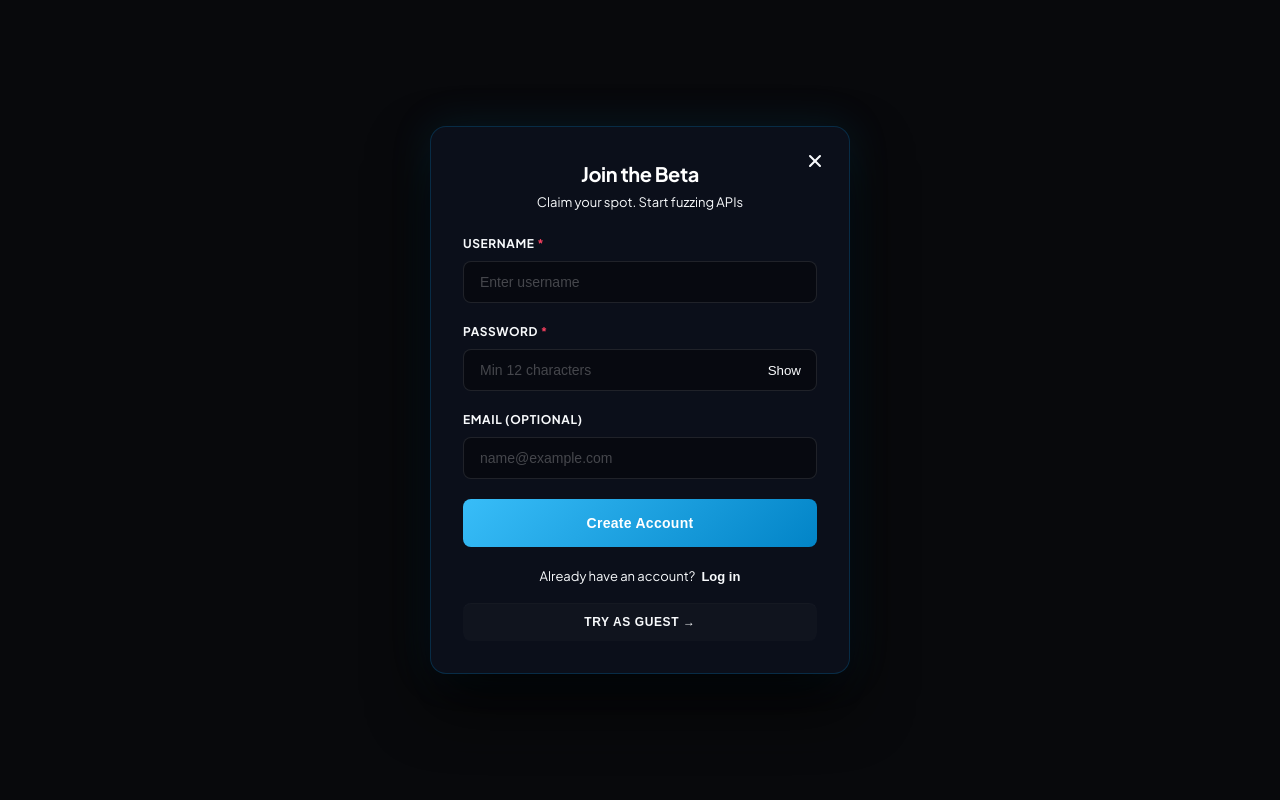
Test: AuthModal Component › shows validation error when password is too short on registration
This screenshot has width=1280, height=800.
In the field with placeholder "Enter username": (640, 282) [463,261,817,303], type "validuser"
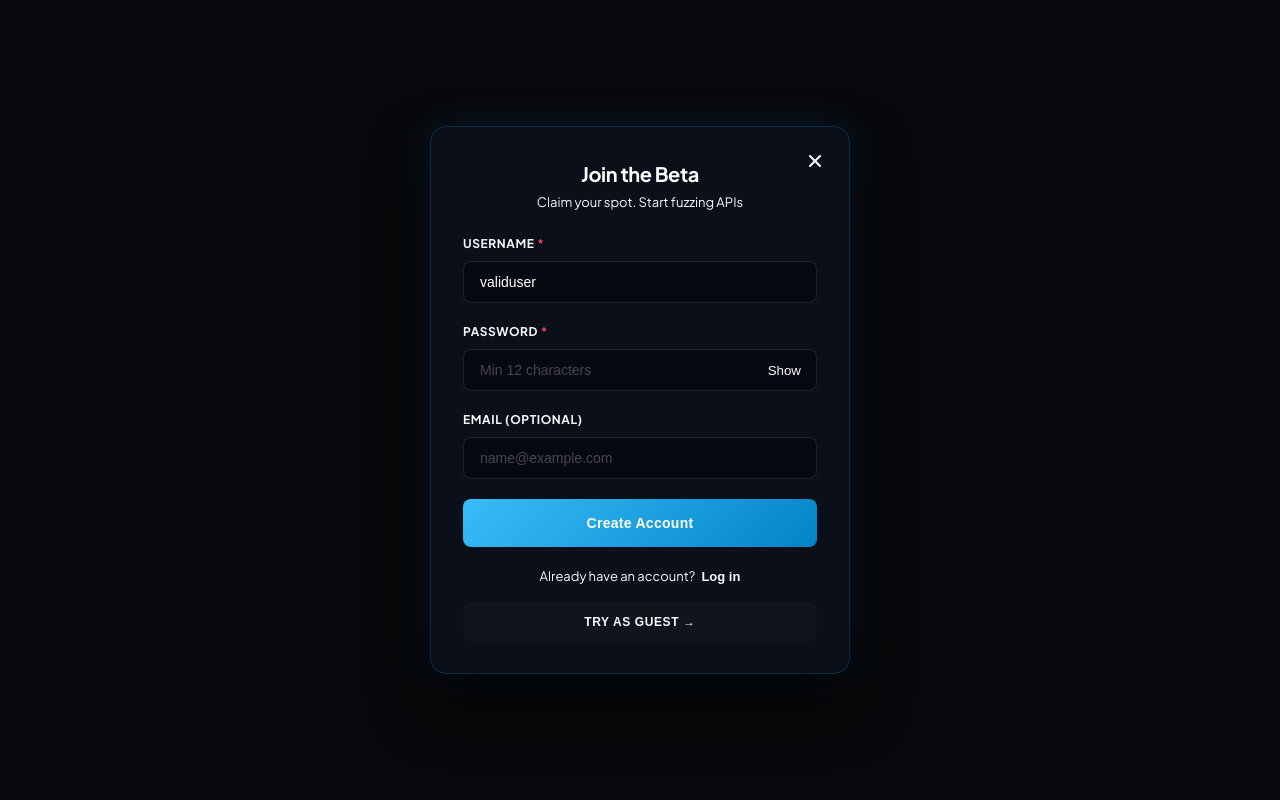
In the password field with placeholder "Min 12 characters": (640, 370) [463,349,817,391], type "short"
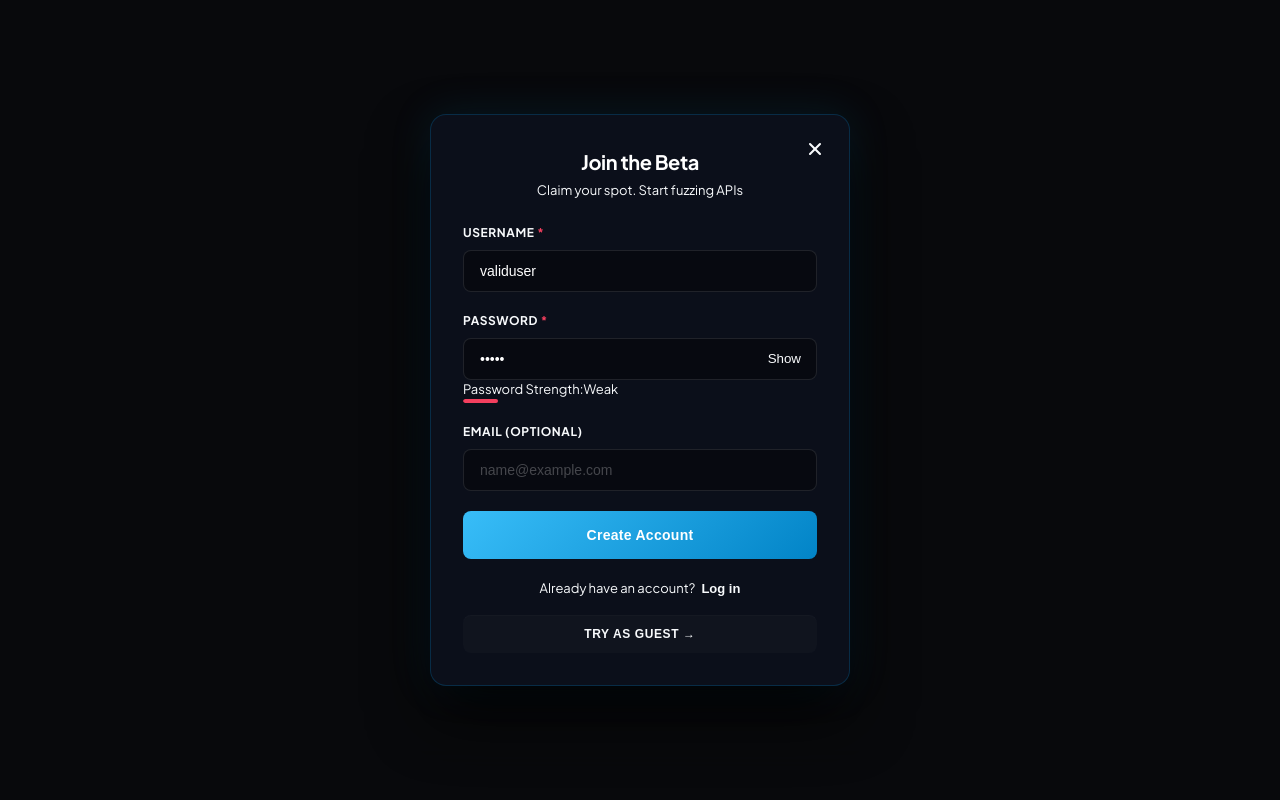
Submit the form named "create account", box [463,224,817,653]
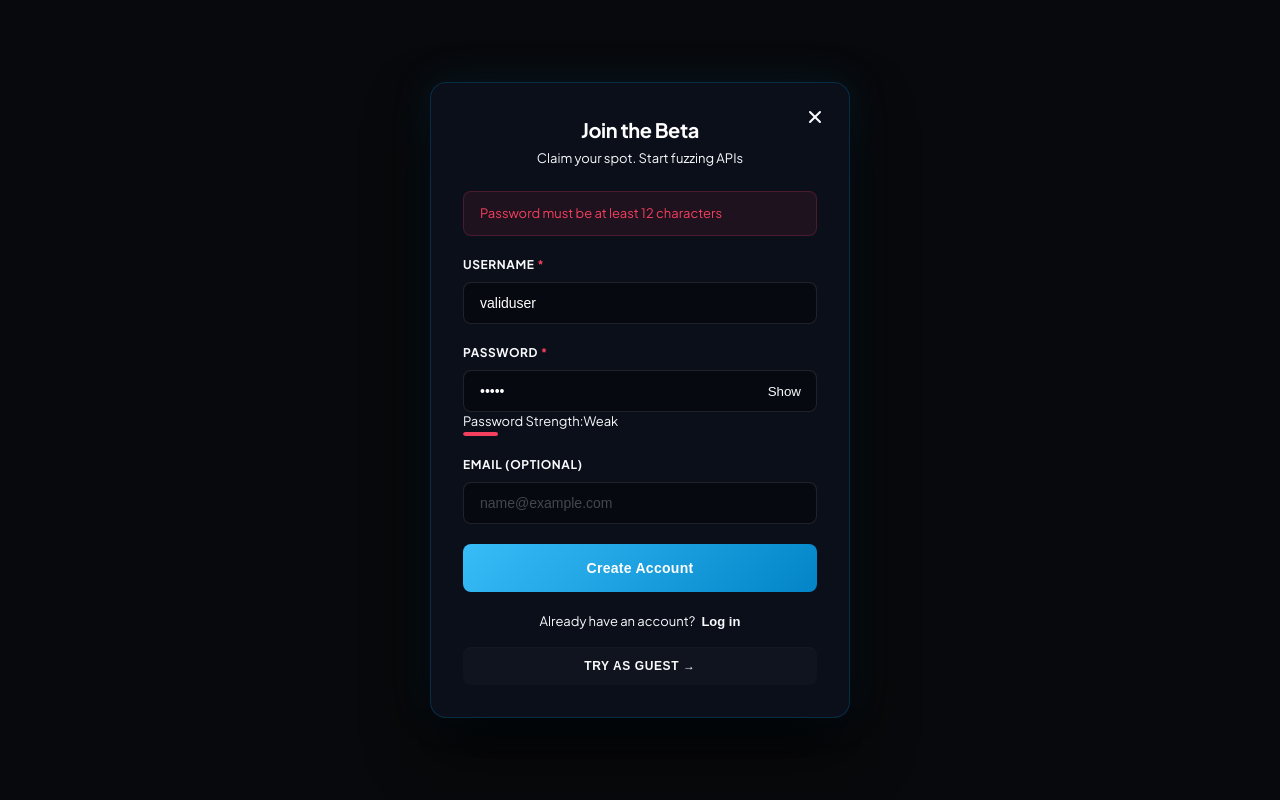
Now the text "Password must be at least 12 characters" is shown, box [480,205,722,221]
